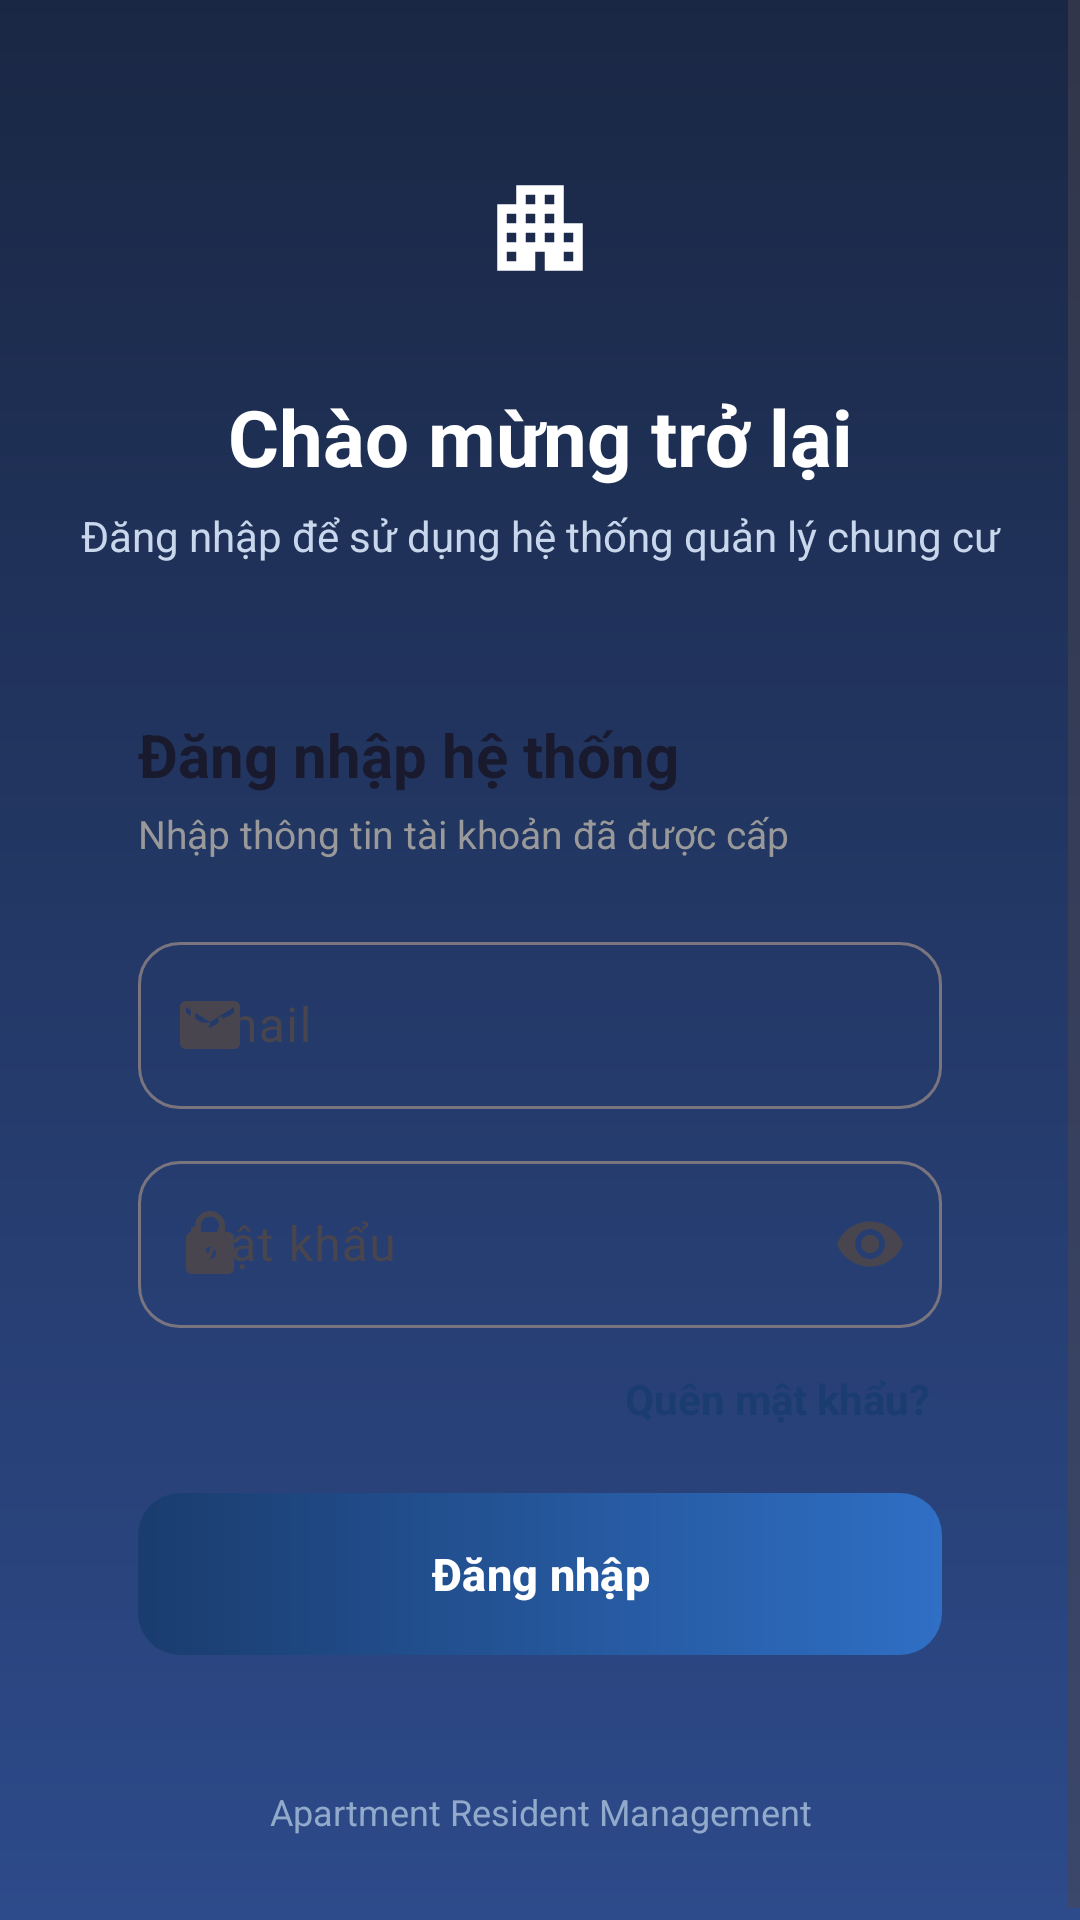

Icons on this 1080px×1920px Android screen, each with its box as BBox(x1, y1, x2, y2):
building: BBox(497, 185, 583, 271)
